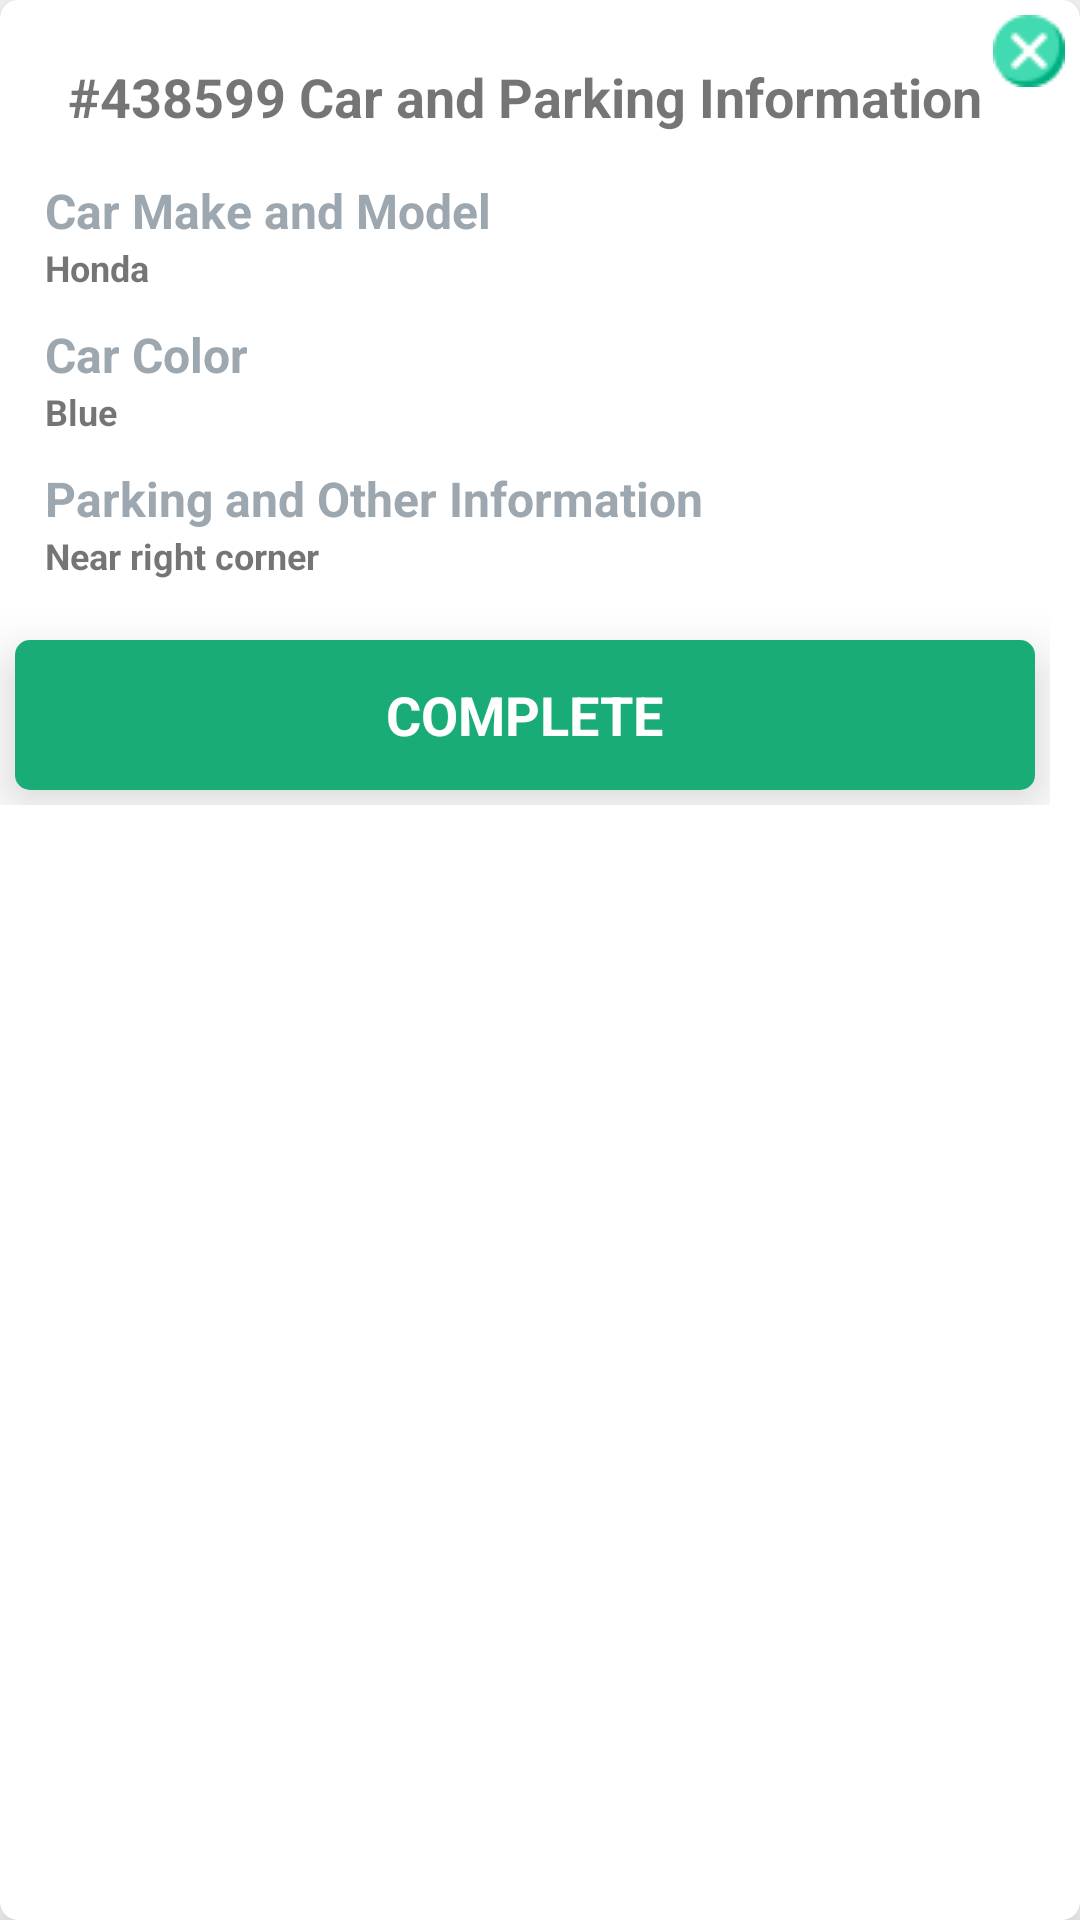

Icon click points for this 1080×1920 phone screenshot, format point (x, y):
cancel: point (1029, 51)
